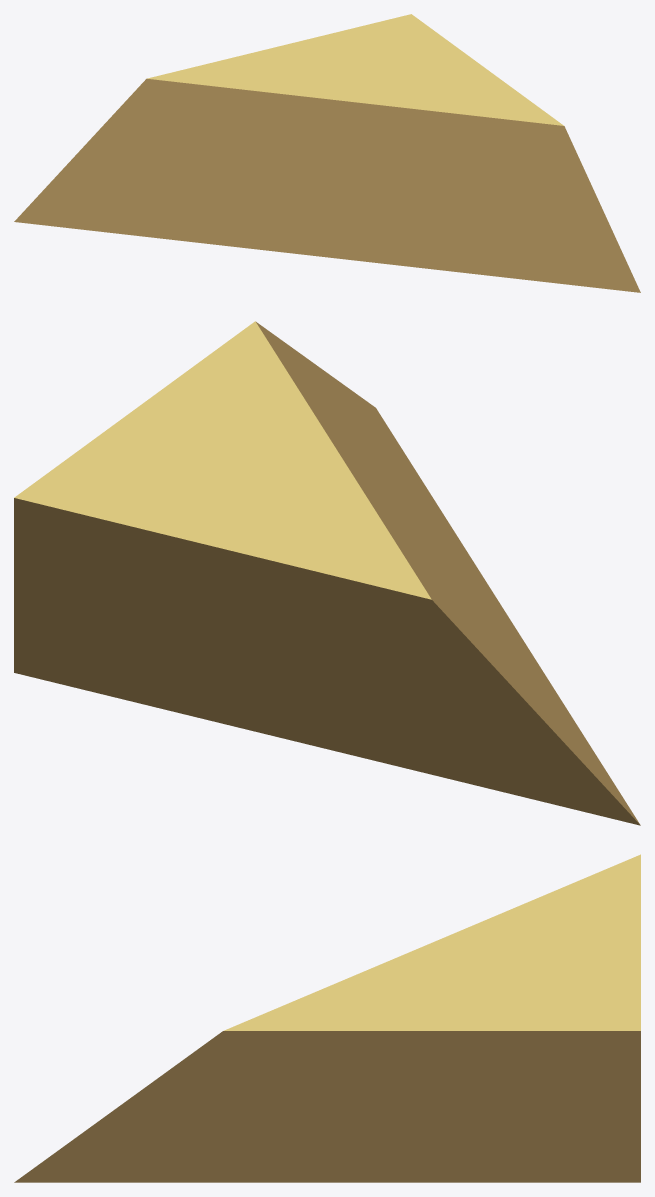
The model's file is Terrain_Modular_Tiles_Sand_Dirt_Cliff_Edge_Corner_Inner_01.fbx.
3 renders of one model, top to bottom at view 1: azimuth 30°, elevation 25°; view 2: azimuth 150°, elevation 25°; view 3: azimuth 270°, elevation 25°, orthographic. The views are drawn at different scales.
Parts seen in each view (by area): view 1: Terrain_Modular_Tiles_Sand_Dirt_Cliff_Edge_Corner_Inner_01; view 2: Terrain_Modular_Tiles_Sand_Dirt_Cliff_Edge_Corner_Inner_01; view 3: Terrain_Modular_Tiles_Sand_Dirt_Cliff_Edge_Corner_Inner_01.
Part boxes in pixels (bbox=[...]): Terrain_Modular_Tiles_Sand_Dirt_Cliff_Edge_Corner_Inner_01: bbox=[14, 14, 640, 292]; Terrain_Modular_Tiles_Sand_Dirt_Cliff_Edge_Corner_Inner_01: bbox=[14, 321, 640, 825]; Terrain_Modular_Tiles_Sand_Dirt_Cliff_Edge_Corner_Inner_01: bbox=[14, 854, 640, 1182].
Bounding box in the file's own units: 44.29 × 11.81 × 44.29.
